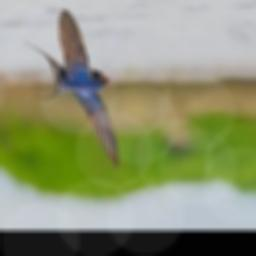Swallow: (24, 10, 118, 171)
